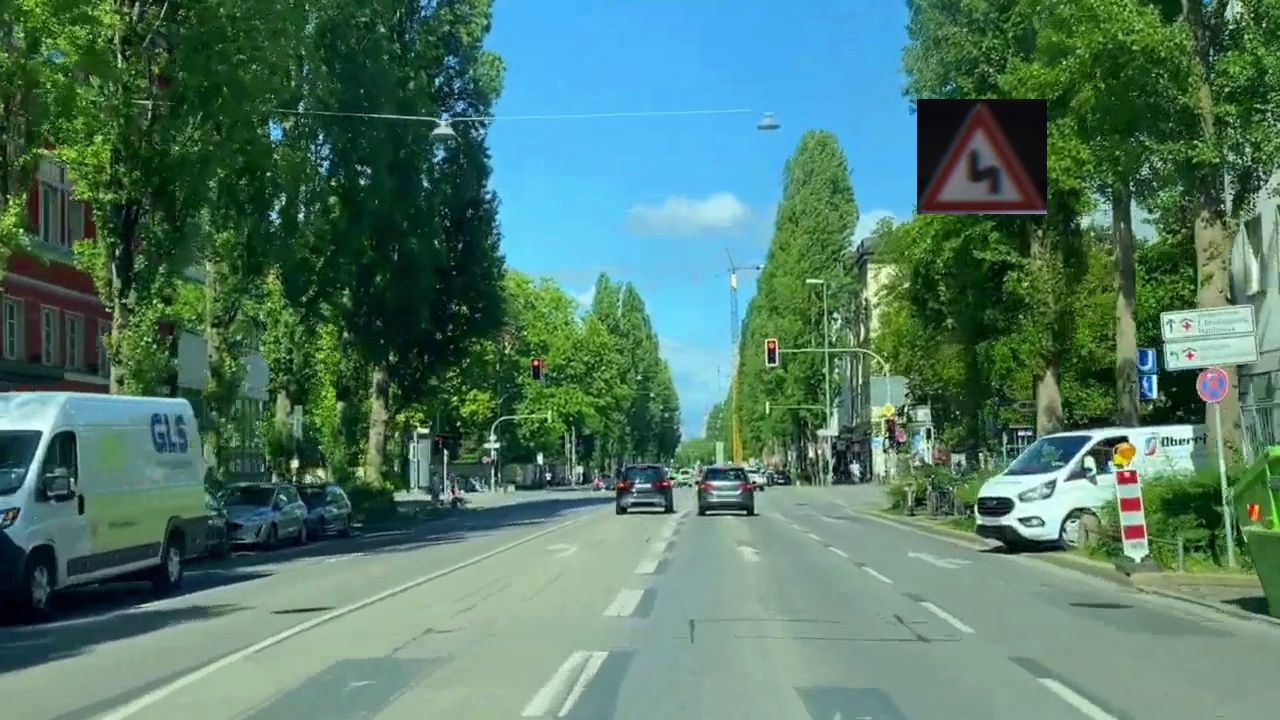Double curve: (917, 99, 1047, 214)
